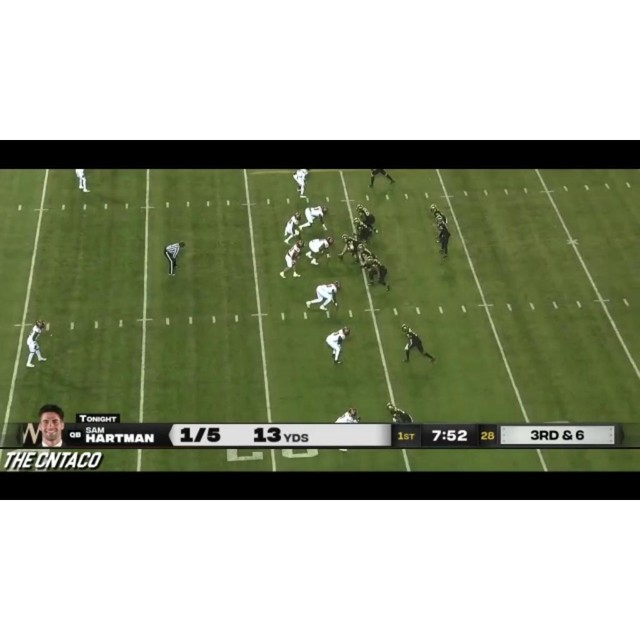american-football-player: (402, 323, 437, 364), (306, 280, 340, 317), (26, 319, 48, 367), (363, 255, 391, 292), (325, 326, 350, 364), (280, 241, 304, 279), (432, 214, 451, 260), (306, 235, 334, 266), (300, 205, 329, 231), (356, 203, 379, 235), (338, 233, 361, 262), (386, 403, 413, 424), (368, 169, 396, 189), (352, 218, 373, 244), (284, 213, 301, 245), (292, 169, 309, 200), (335, 407, 360, 424), (75, 171, 90, 193)
referee: (164, 240, 185, 277)
